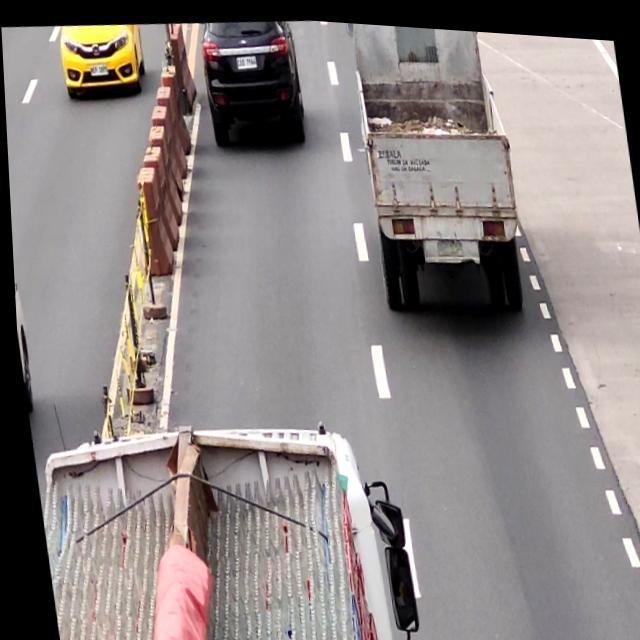Car: (195, 12, 307, 146)
License-Plate: (433, 231, 462, 251), (235, 49, 258, 67)
Truck: (24, 399, 416, 640), (344, 18, 530, 317)
